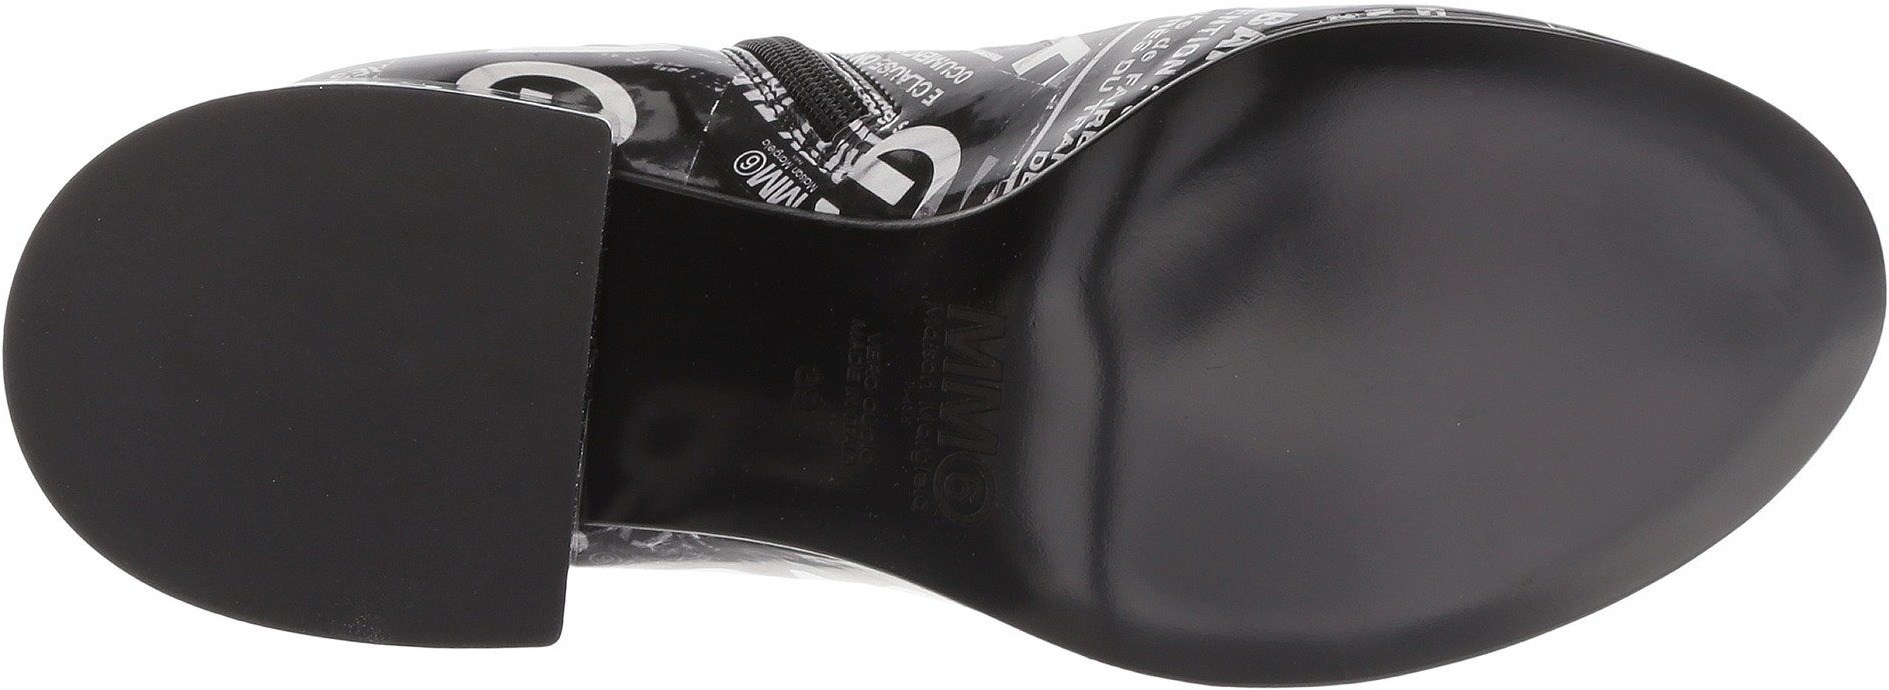other: (1387, 81, 1738, 454), (52, 231, 320, 494), (308, 157, 573, 419), (1125, 403, 1399, 655), (1138, 119, 1370, 359), (333, 427, 541, 624), (1408, 458, 1566, 617)
